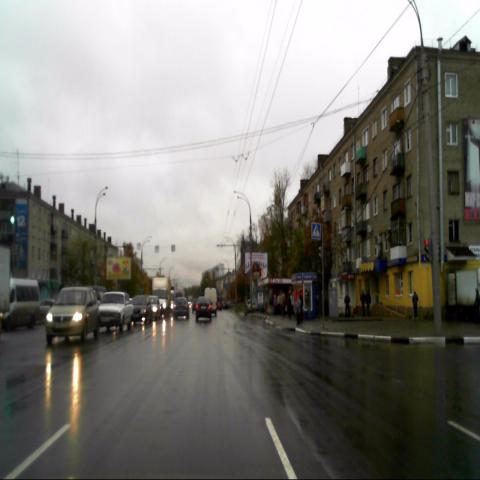5_19_1: (311, 223, 320, 239)
